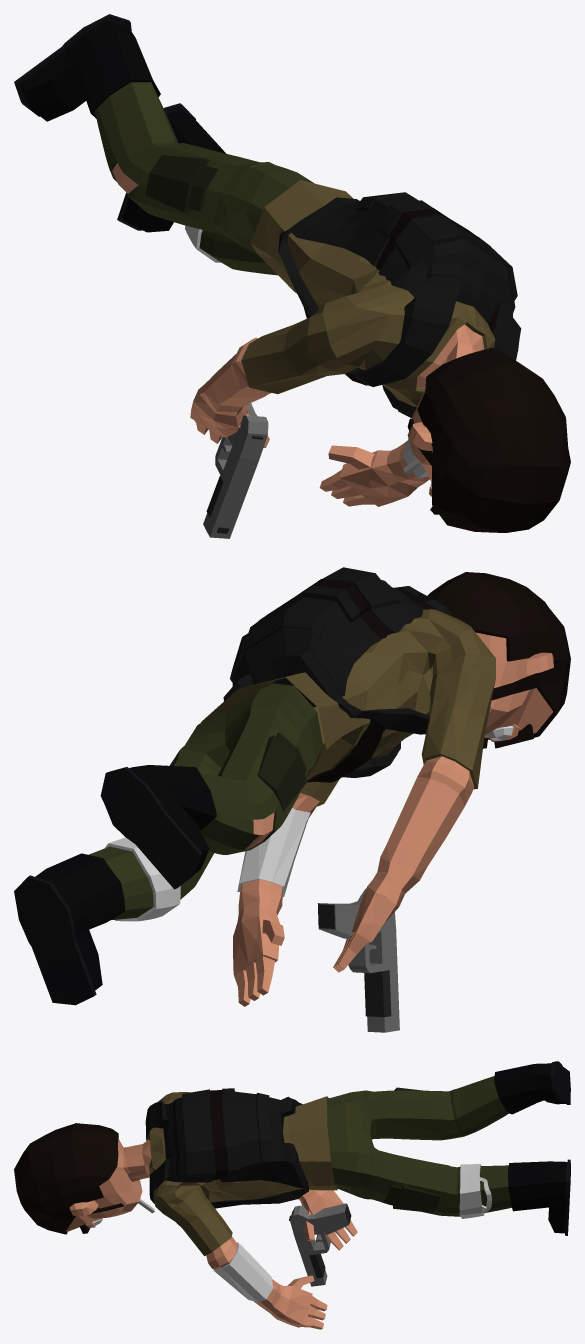
Rendered from frame_0009.obj.
3 views of the same model, one above another, from view 1: azimuth 30°, elevation 25°; view 2: azimuth 150°, elevation 25°; view 3: azimuth 270°, elevation 25° (orthographic). The views are drawn at different scales.
Visible parts, largest first — view 1: Body, Gun; view 2: Body, Gun; view 3: Body, Gun.
Part boxes in pixels (x1,y1,x2,y2): Body: (14, 14, 570, 532); Gun: (203, 403, 268, 538); Body: (14, 567, 570, 1006); Gun: (317, 888, 399, 1032); Body: (14, 1061, 570, 1329); Gun: (289, 1203, 351, 1286).
Size of the model in its own units: 1.33 by 2.04 by 4.14.
